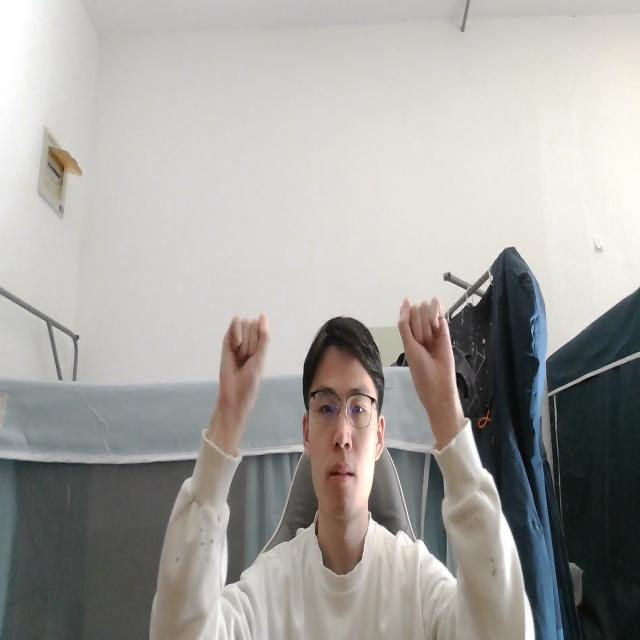ten: (394, 290, 464, 434), (211, 306, 272, 442)
